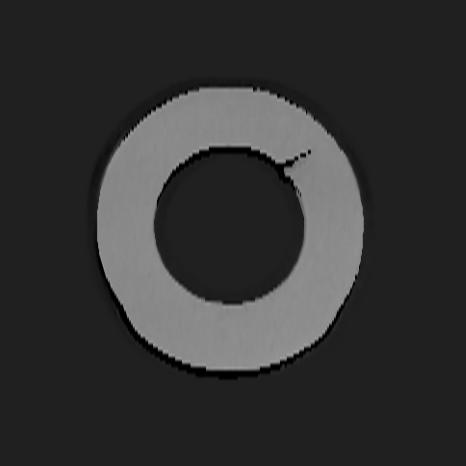defect: (276, 147, 313, 169)
